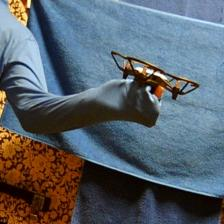drone: (111, 47, 204, 102)
